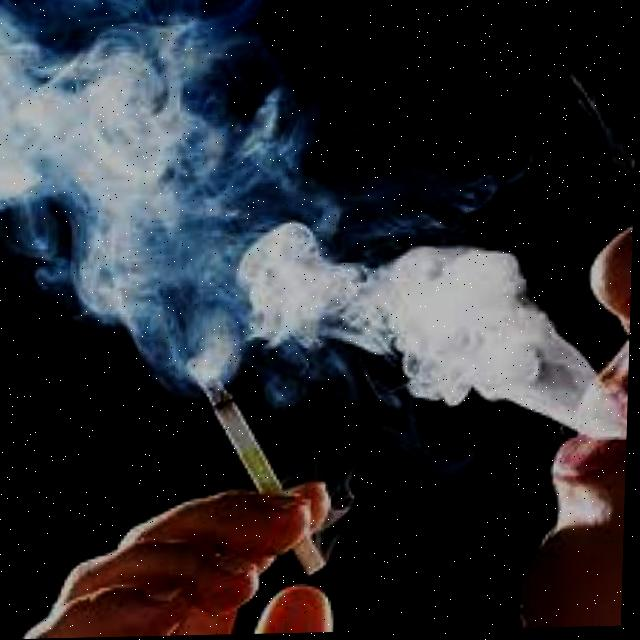cigarette: (196, 373, 331, 582)
